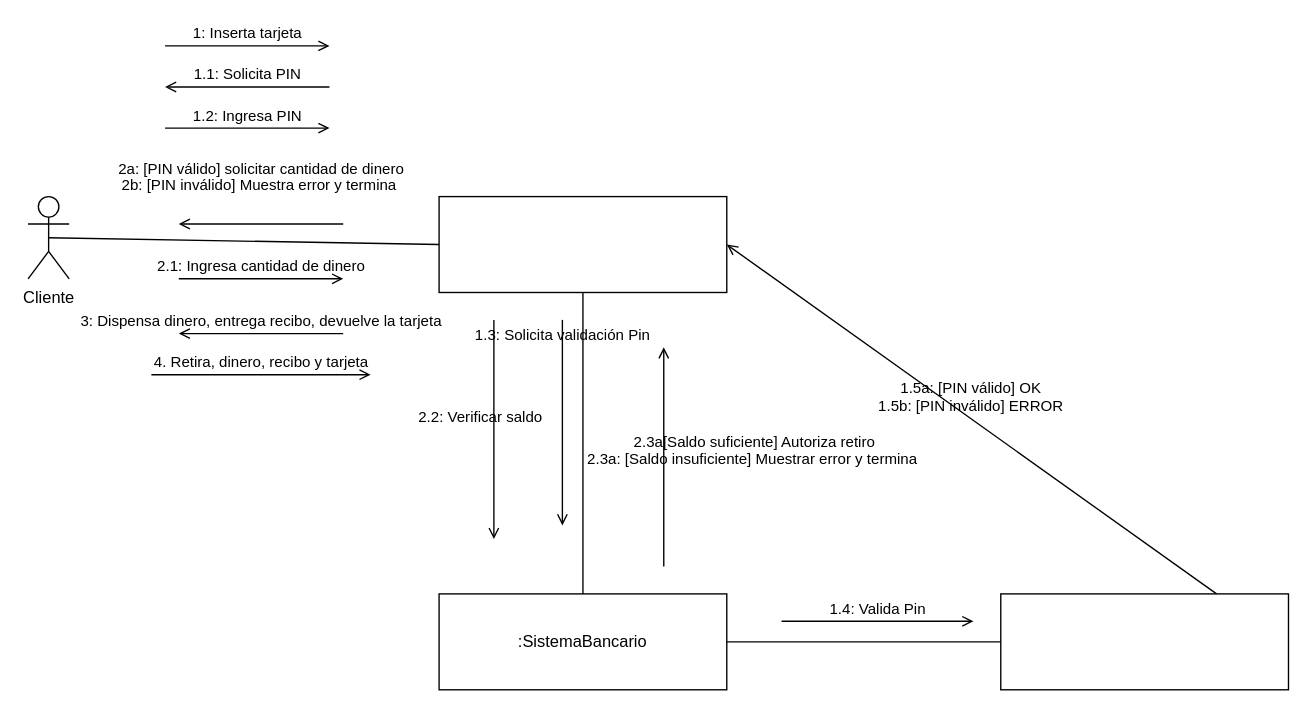
Some shapes in this 1312 by 714 pixel diagram are drawn without their labels. Each missing label, with the centre of its shape:
":BaseDatos" goes at (1143,641).
":CajeroAutomatico" goes at (582,243).
